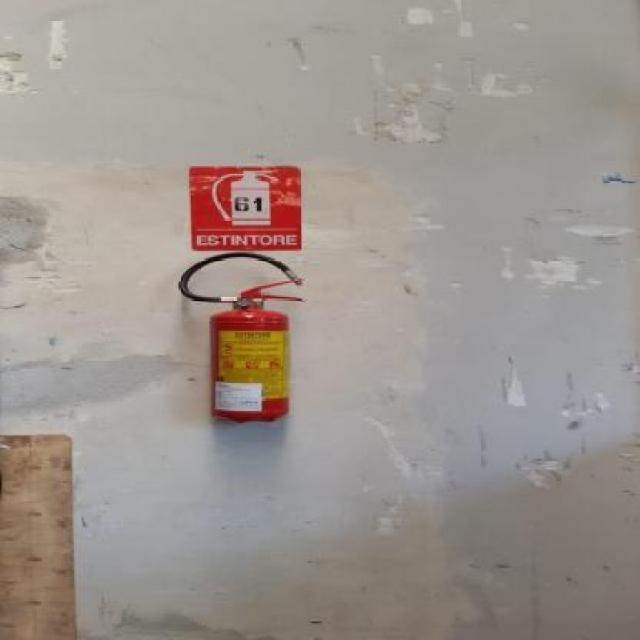fire extinguisher: (180, 252, 305, 423)
